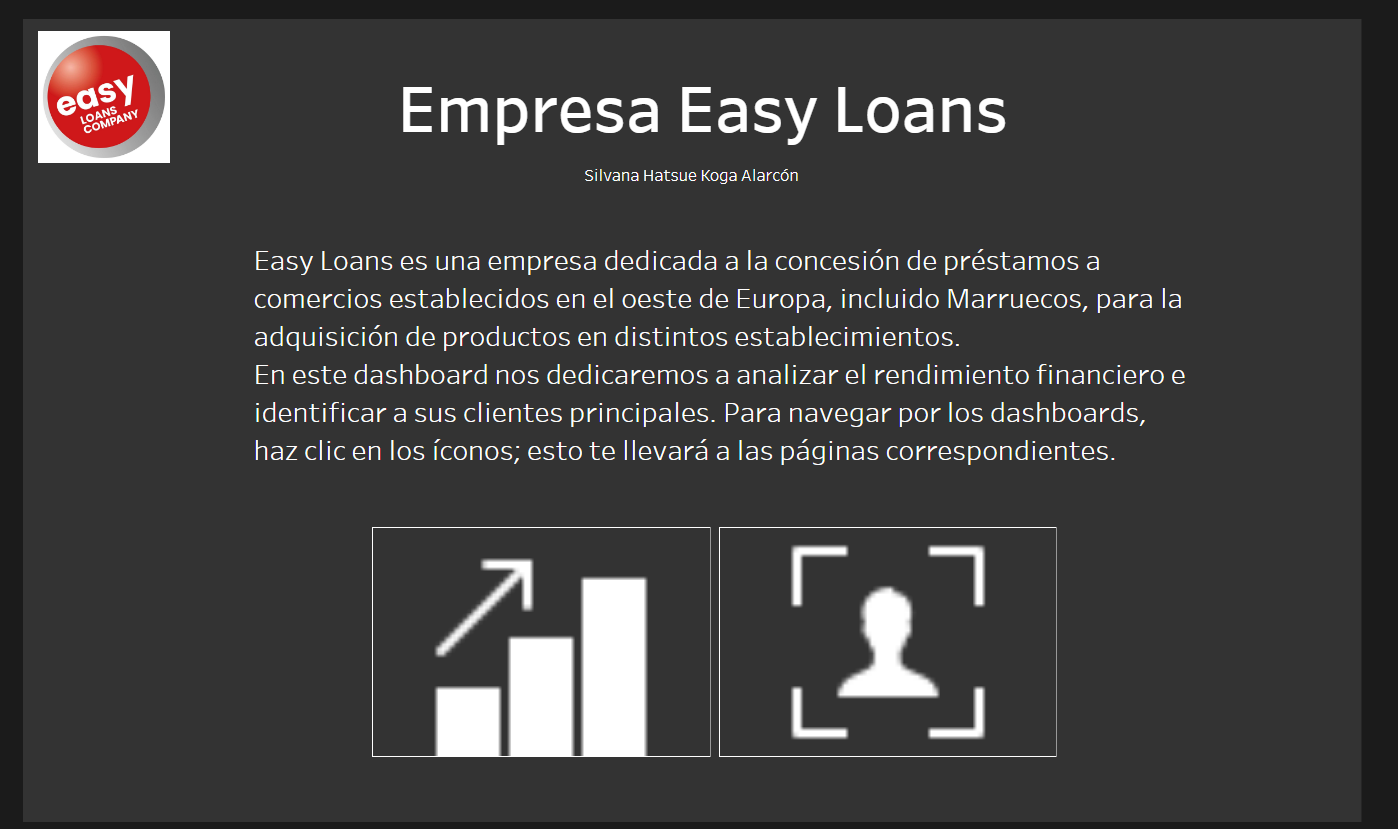

The page's visual inventory and layout, read from the dashboard file:
{"tool":"tableau","page":{"name":"Home","canvas":[1400,850],"ordinal":1},"visuals":[{"type":"image","param":"Image/Easy_Loans_Logo.JPG","box":[39,32,149,132]},{"type":"text","box":[349,34,724,146]},{"type":"text","box":[485,160,416,30]},{"type":"text","box":[255,196,933,318]},{"type":"dashboard-object","box":[369,524,347,238]},{"type":"dashboard-object","box":[716,524,346,238]}]}

Visuals, with their boxes in screenshot pixels (x1, y1, x2, y2), scaled from the page's 1400x850 canvas onto the 1398x829 screenshot:
image: (x1=39, y1=31, x2=188, y2=160)
text: (x1=349, y1=33, x2=1071, y2=176)
text: (x1=484, y1=156, x2=900, y2=185)
text: (x1=255, y1=191, x2=1186, y2=501)
dashboard-object: (x1=368, y1=511, x2=715, y2=743)
dashboard-object: (x1=715, y1=511, x2=1060, y2=743)
